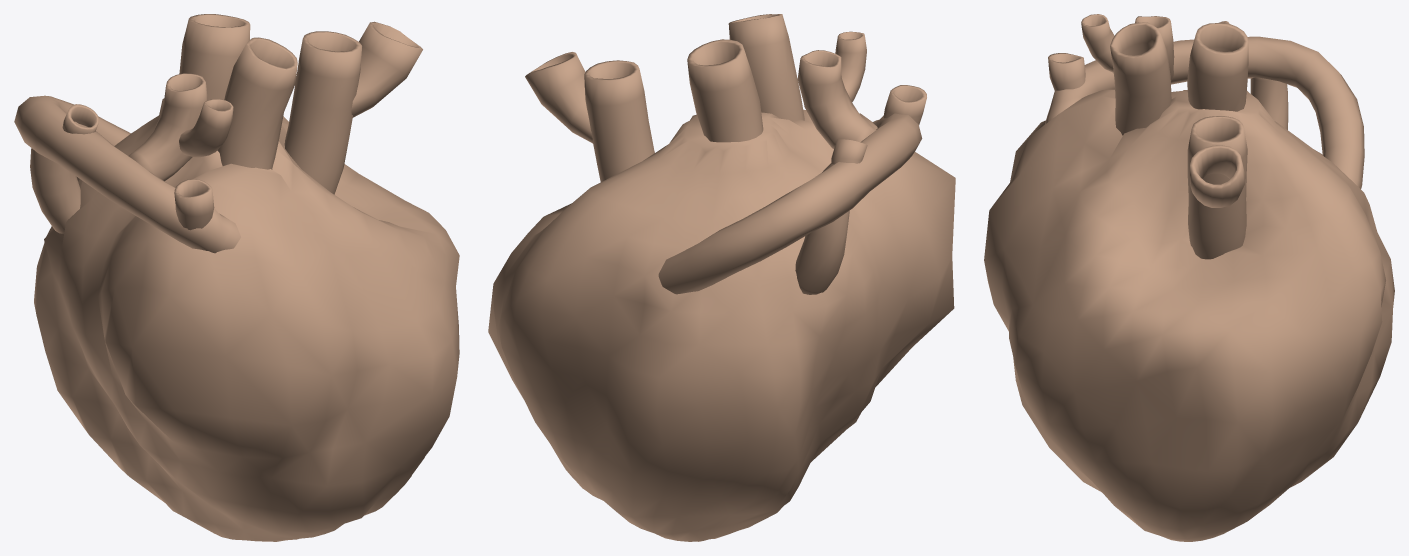
File: Corazon_Final_FINAL.fbx
The picture shows the model from 3 angles, left to right: view 1: azimuth 30°, elevation 25°; view 2: azimuth 150°, elevation 25°; view 3: azimuth 270°, elevation 25°; orthographic projection. The views are drawn at different scales.
Parts seen in each view (by area): view 1: Sphere001; view 2: Sphere001; view 3: Sphere001.
Part boxes in pixels (box(x1,y1,x2,y2)): Sphere001: box(14, 14, 459, 541); Sphere001: box(488, 14, 955, 541); Sphere001: box(984, 14, 1394, 541).
Bounding box in the file's own units: 18.9 × 24.18 × 19.13.
